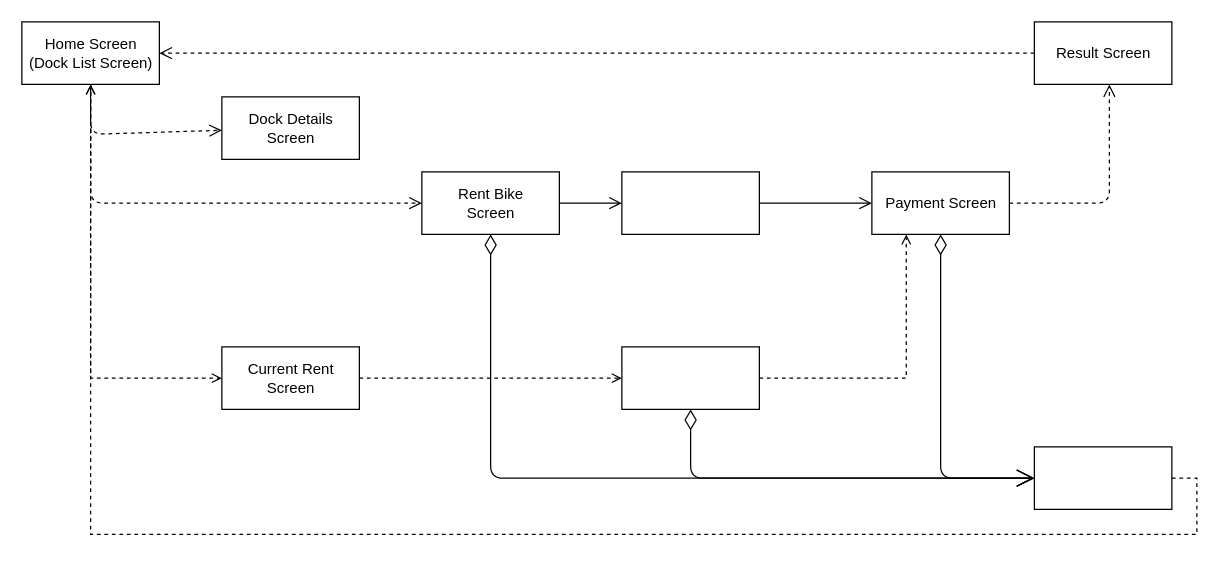
Some shapes in this 1229 by 566 pixel diagram are drawn without their labels. Here are the shapes that lost their labels. From the top down, the centre of each, then its label:
point (690, 202): Invoice Screen
point (690, 377): Dock List To Return Screen
point (1102, 477): Error Screen
